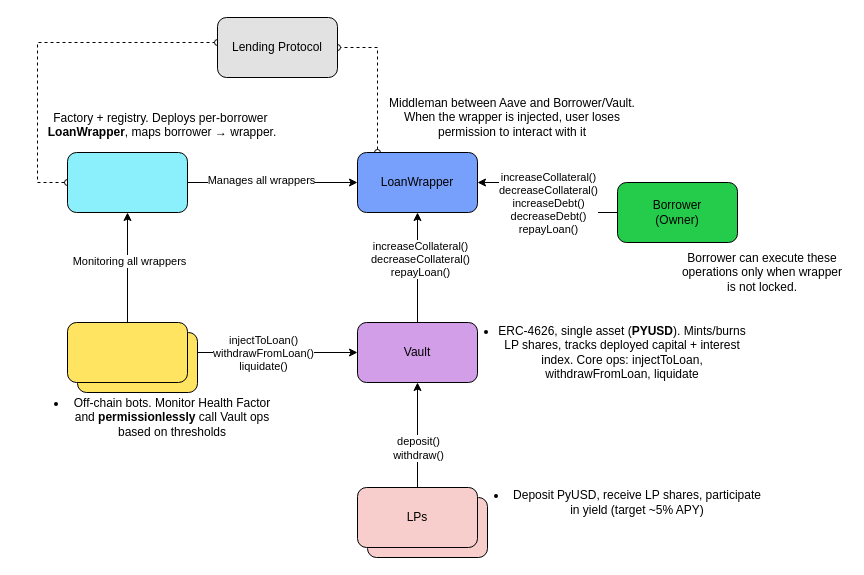
The diagram is 864 pixels wide and 575 high, and some of its shapes have lost their labels. The shapes that lost their labels are listed below. From the top down, each one's box as (x1, y1, x2, y2) in pixels, then its label:
(66, 152, 188, 212): LoanWrapperRegistry
(66, 322, 188, 382): Keepers
